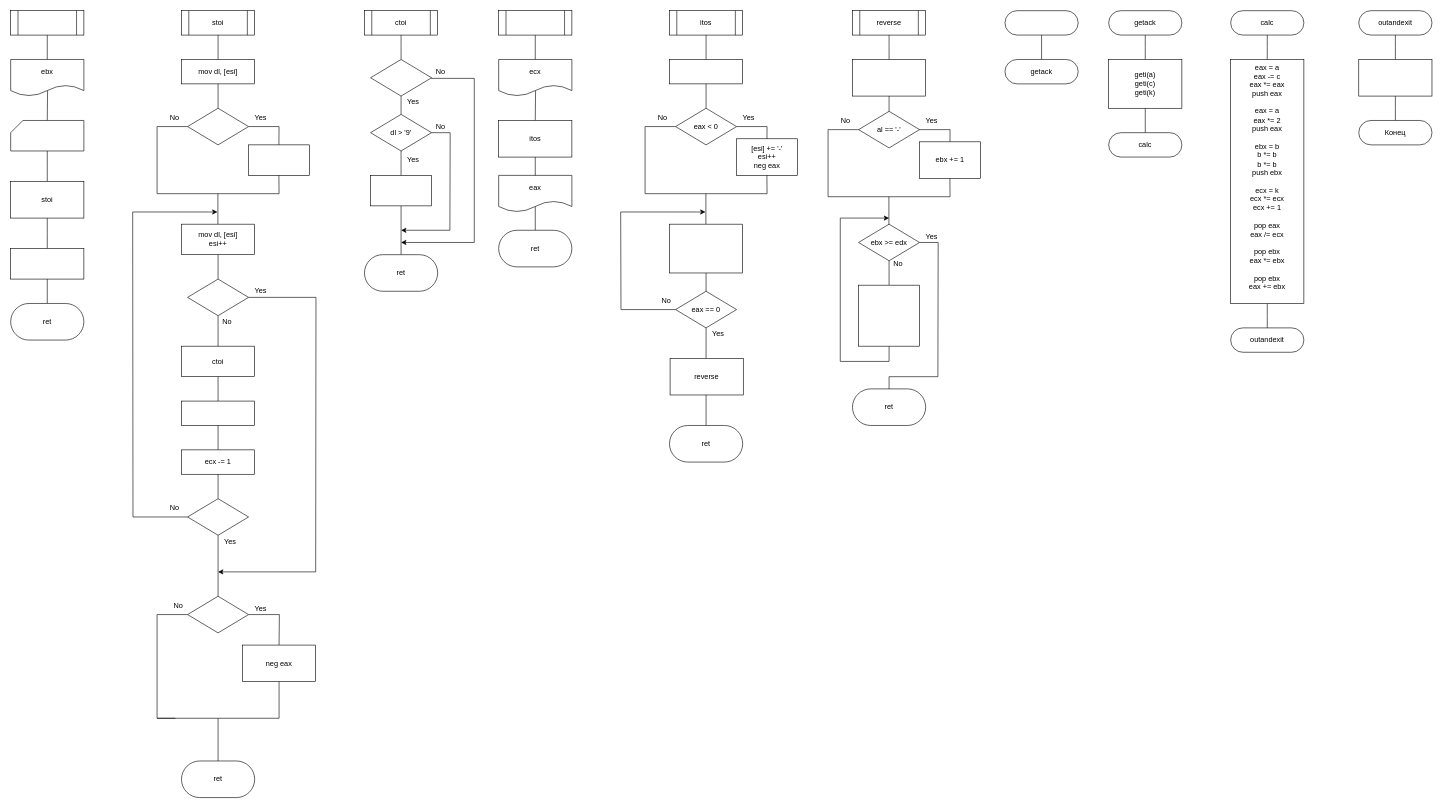
The diagram is 1443 pixels wide and 808 high, and some of its shapes have lost their labels. Here are the shapes that lost their labels. From the top down, the centre of each, then its label:
the point at 47,22: geti
the point at 535,22: outi
the point at 1041,22: Начало
the point at 401,77: dl < '0'
the point at 706,71: mov eax, [esi]
the point at 889,77: ebx = eax edx = eax + len - 1 al = [ebx]
the point at 1395,77: outi(eax)
the point at 47,135: edx
the point at 218,126: dl == '-'
the point at 279,159: esi ++ push 1
the point at 401,190: dl -= '0'
the point at 47,263: mov dword[ebx], eax
the point at 706,248: edx = eax % 10 eax /= 10 edx += '0' [esi] += edx esi++
the point at 218,297: dl == LF
the point at 889,315: al = [ebx] cl = [edx] [ebx] = cl [edx] = al ebx += 1 edx -= 1
the point at 218,412: eax = eax*10 + edx
the point at 218,516: ecx == 0
the point at 218,614: pop == 1
